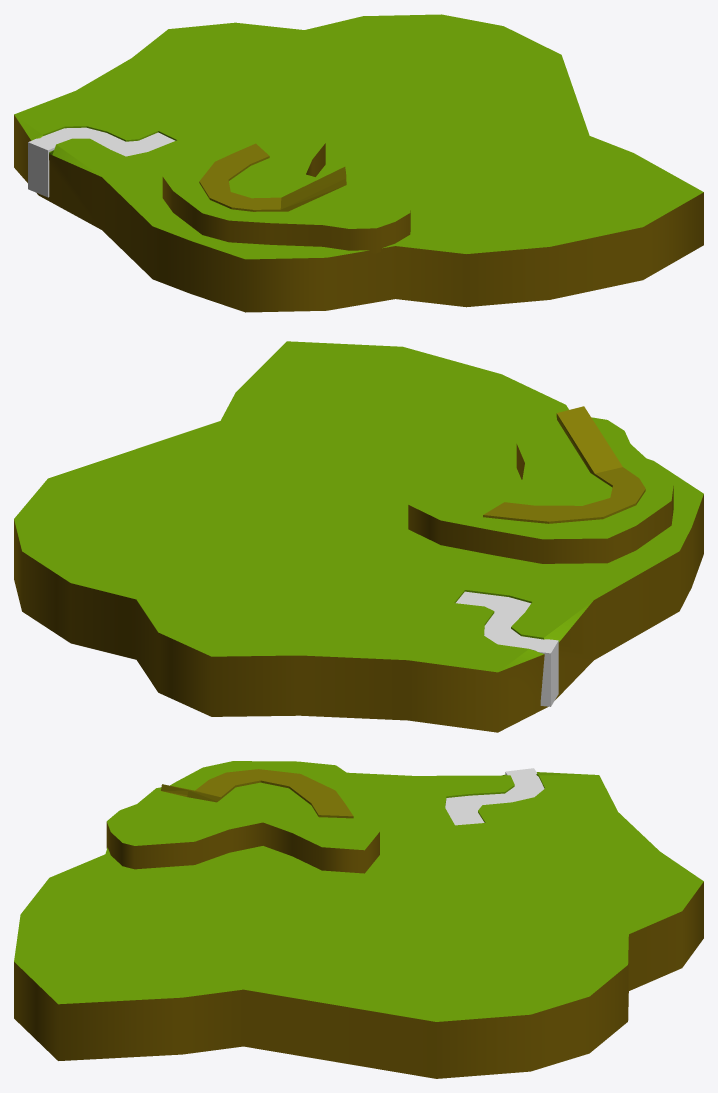
File: SM_W_LowPlatform.fbx
3 renders of one model, top to bottom at view 1: azimuth 30°, elevation 25°; view 2: azimuth 150°, elevation 25°; view 3: azimuth 270°, elevation 25°, orthographic. The views are drawn at different scales.
Parts seen in each view (by area): view 1: Main_Landmass_08; view 2: Main_Landmass_08; view 3: Main_Landmass_08.
Part boxes in pixels (x1=…): Main_Landmass_08: x1=14, y1=14, x2=703, y2=312; Main_Landmass_08: x1=14, y1=341, x2=703, y2=732; Main_Landmass_08: x1=14, y1=761, x2=703, y2=1078.
Size of the model in its own units: 2364 by 495 by 2698.
